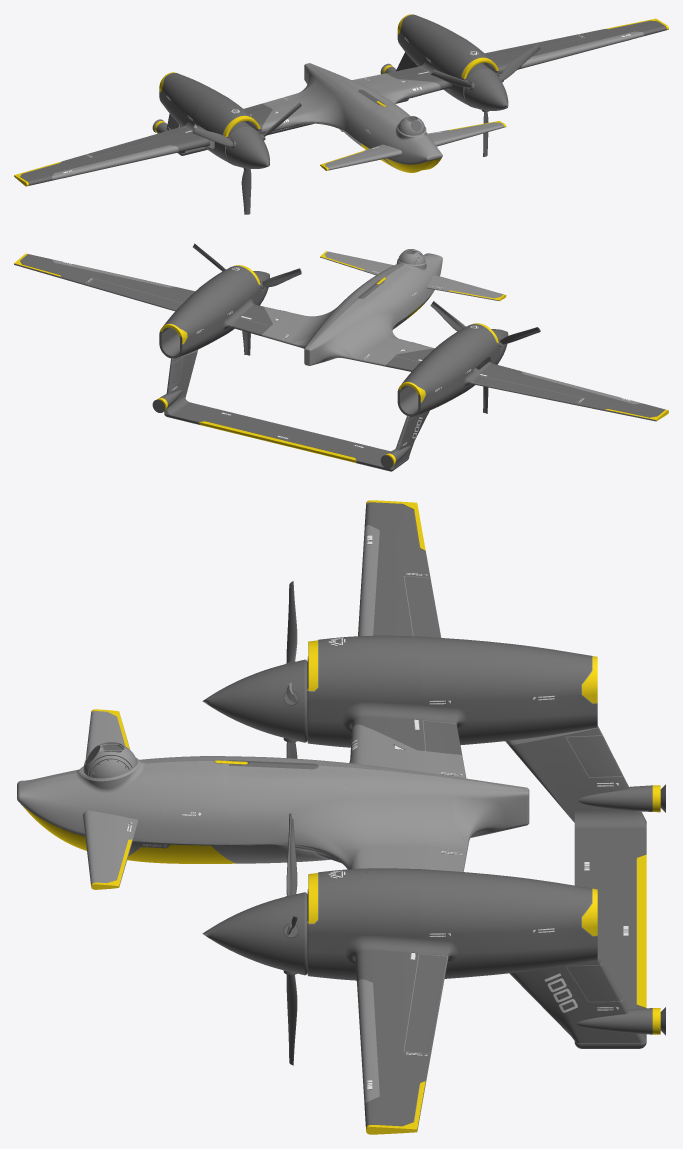
File: omen-v1.glb
The picture shows the model from 3 angles, top to bottom: view 1: azimuth 30°, elevation 25°; view 2: azimuth 150°, elevation 25°; view 3: azimuth 270°, elevation 25°; orthographic projection. The views are drawn at different scales.
Parts seen in each view (by area): view 1: L Body, L Wing, R Body, R Wing, R Engine, L Engine, L Leg, R Leg, R Prop Hub, L Prop Hub, Tail, R Body Blend (+5 smaller); view 2: L Body, Tail, L Wing, R Body, R Wing, R Engine, L Engine, R Leg, L Leg, R Body Blend, L Body Blend; view 3: R Body, Tail, R Engine, L Engine, R Wing, L Leg, R Leg, L Wing, L Body, L Prop Hub, R Prop Hub, L Body Blend (+1 smaller).
Boxes of the visible parts, left/top/right/bottom form: L Body: left=262, top=63, right=434, bottom=170; L Wing: left=14, top=124, right=209, bottom=185; R Body: left=308, top=63, right=506, bottom=159; R Wing: left=485, top=18, right=667, bottom=74; R Engine: left=397, top=26, right=499, bottom=106; L Engine: left=159, top=84, right=261, bottom=165; L Leg: left=160, top=72, right=237, bottom=122; R Leg: left=398, top=14, right=475, bottom=64; R Prop Hub: left=464, top=69, right=508, bottom=112; L Prop Hub: left=226, top=128, right=269, bottom=170; Tail: left=152, top=52, right=417, bottom=155; R Body Blend: left=386, top=66, right=447, bottom=90; L Body: left=307, top=249, right=506, bottom=366; Tail: left=152, top=351, right=429, bottom=471; L Wing: left=467, top=362, right=667, bottom=421; R Body: left=262, top=249, right=433, bottom=365; R Wing: left=14, top=253, right=194, bottom=311; R Engine: left=159, top=265, right=261, bottom=359; L Engine: left=397, top=323, right=499, bottom=416; R Leg: left=160, top=273, right=241, bottom=336; L Leg: left=398, top=332, right=479, bottom=394; R Body Blend: left=228, top=303, right=272, bottom=336; L Body Blend: left=385, top=348, right=434, bottom=371; R Body: left=17, top=747, right=529, bottom=889; Tail: left=508, top=727, right=665, bottom=1048; R Engine: left=307, top=868, right=598, bottom=980; L Engine: left=307, top=635, right=598, bottom=747; R Wing: left=353, top=944, right=450, bottom=1134; L Leg: left=370, top=635, right=597, bottom=696; R Leg: left=370, top=868, right=597, bottom=928; L Wing: left=358, top=500, right=441, bottom=637; L Body: left=17, top=709, right=529, bottom=818; L Prop Hub: left=202, top=659, right=307, bottom=742; R Prop Hub: left=202, top=892, right=307, bottom=975; L Body Blend: left=351, top=713, right=462, bottom=755.
Bounding box in the file's own units: 0.381 × 0.0567 × 0.1667.
